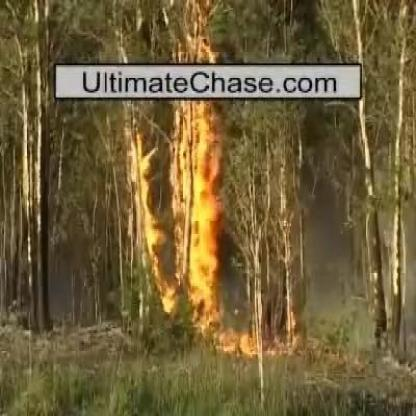foggia-v2-map80-epoch100 - v1 4323: (180, 101, 215, 286)
